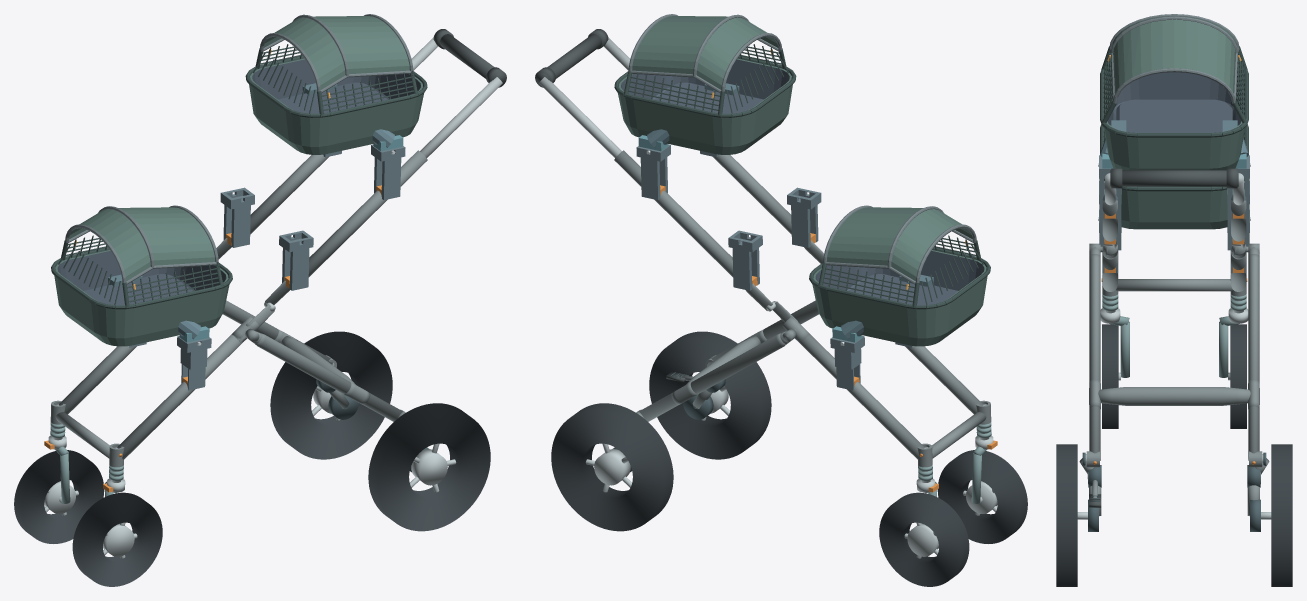
File: D01_w380_state1_wheel_M.glb
3 views of the same model, side by side, from view 1: azimuth 30°, elevation 25°; view 2: azimuth 150°, elevation 25°; view 3: azimuth 270°, elevation 25° (orthographic). The views are drawn at different scales.
Visible parts, largest first — view 1: D01_Lower, D01_Upper, RL_tire.009, RR_tire.009, FL_tire.009, FR_tire.009, main_lower_-1, V46_rear_leg_-1.002, main_upper_-1, Universal_Cabin_Receiver_M_1, Universal_Cabin_Receiver_M_-1, main_upper_1 (+12 smaller); view 2: D01_Lower, D01_Upper, RR_tire.009, RL_tire.009, FR_tire.009, FL_tire.009, main_lower_1, V46_rear_leg_1.002, main_upper_1, Universal_Cabin_Receiver_M_1, Universal_Cabin_Receiver_M_-1, main_upper_-1 (+12 smaller); view 3: D01_Upper, D01_Lower, RL_tire.009, RR_tire.009, V46_rearbar.002, V46_rear_leg_1.002, V46_rear_leg_-1.002, round_handle.010, FL_tire.009, FR_tire.009, front_fixed_round_tube, D01_Upper_Mount_H (+9 smaller).
Part boxes in pixels (x1,y1,x2,y2): D01_Lower: (51,205,232,346); D01_Upper: (245,14,427,154); RL_tire.009: (368,403,490,531); RR_tire.009: (270,331,392,459); FL_tire.009: (72,492,162,586); FR_tire.009: (14,450,104,543); main_lower_-1: (117,334,245,459); V46_rear_leg_-1.002: (255,333,402,421); main_upper_-1: (308,150,427,277); Universal_Cabin_Receiver_M_1: (220,187,254,247); Universal_Cabin_Receiver_M_-1: (279,230,313,290); main_upper_1: (250,154,328,234); D01_Lower: (809,205,990,346); D01_Upper: (614,14,796,154); RR_tire.009: (551,403,673,531); RL_tire.009: (649,331,771,459); FR_tire.009: (879,492,969,586); FL_tire.009: (937,450,1027,543); main_lower_1: (796,334,924,459); V46_rear_leg_1.002: (639,333,786,421); main_upper_1: (614,150,733,277); Universal_Cabin_Receiver_M_1: (728,230,762,290); Universal_Cabin_Receiver_M_-1: (787,187,821,247); main_upper_-1: (713,154,791,234); D01_Upper: (1100,14,1248,170); D01_Lower: (1100,124,1248,229); RL_tire.009: (1056,444,1077,586); RR_tire.009: (1271,444,1292,586); V46_rearbar.002: (1098,387,1250,405); V46_rear_leg_1.002: (1248,254,1259,460); V46_rear_leg_-1.002: (1089,254,1100,460); round_handle.010: (1110,170,1238,186); FL_tire.009: (1102,324,1118,428); FR_tire.009: (1230,324,1246,428); front_fixed_round_tube: (1116,279,1232,291); D01_Upper_Mount_H: (1098,120,1250,168).
Bounding box in the file's own units: 1.15 × 1.23 × 0.4971.
